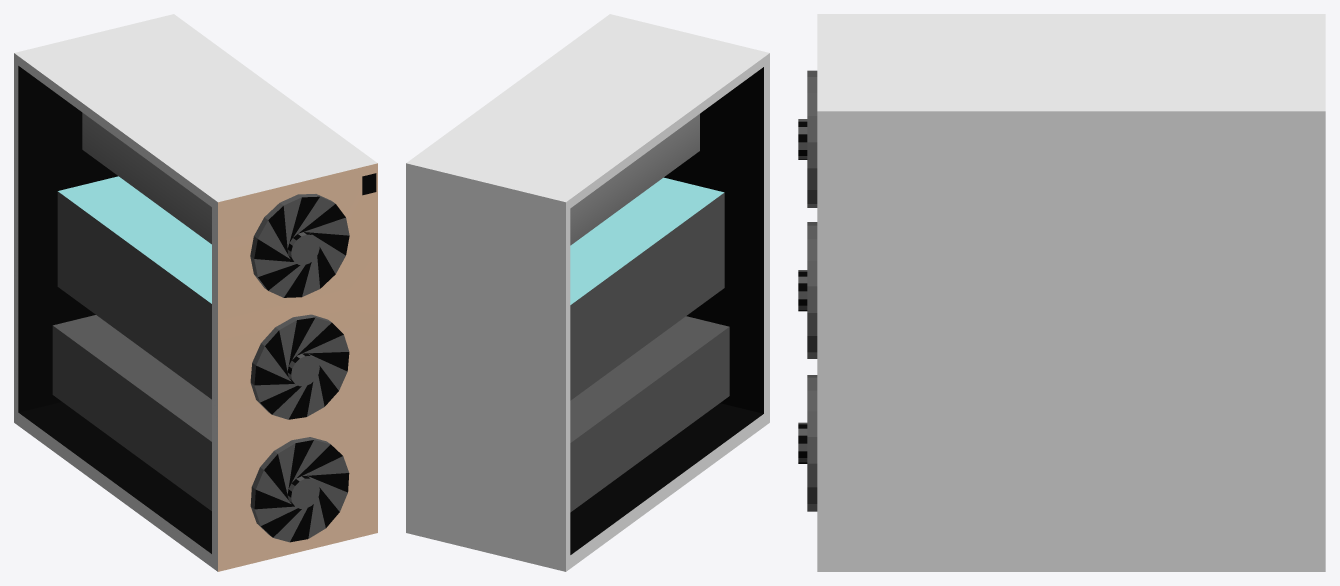
Rendered from Tower.fbx.
3 renders of one model, left to right at view 1: azimuth 30°, elevation 25°; view 2: azimuth 150°, elevation 25°; view 3: azimuth 270°, elevation 25°, orthographic. The views are drawn at different scales.
Parts seen in each view (by area): view 1: Tower; view 2: Tower; view 3: Tower.
Part boxes in pixels (left/top/right/bottom): Tower: left=14, top=14, right=377, bottom=571; Tower: left=406, top=14, right=769, bottom=571; Tower: left=798, top=14, right=1325, bottom=571.
Size of the model in its own units: 39.69 by 87.67 by 90.91.
